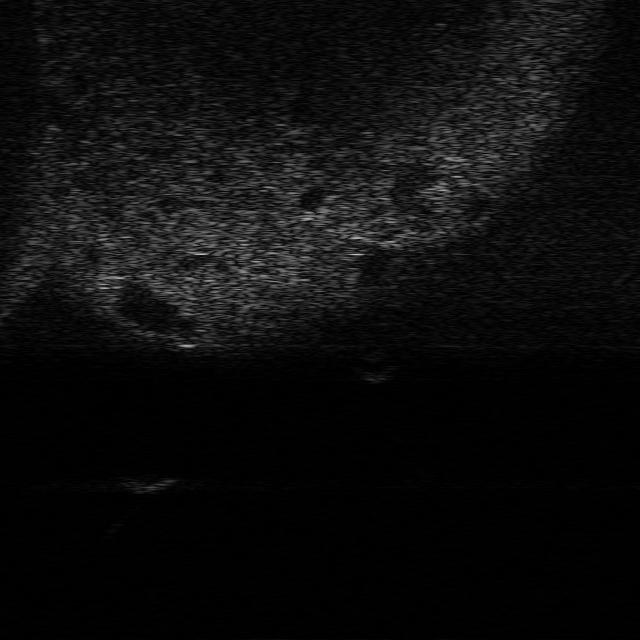ball: (350, 354, 398, 383)
cube: (120, 476, 179, 496)
